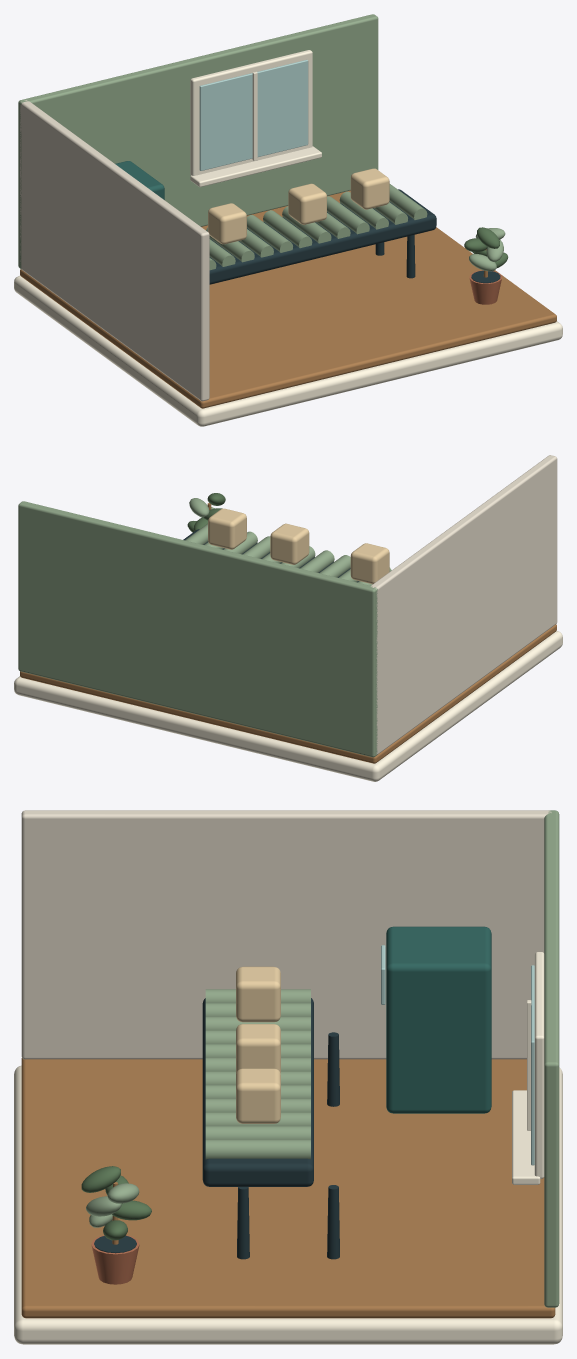
The model's file is business-factory.glb.
3 views of the same model, one above another, from view 1: azimuth 30°, elevation 25°; view 2: azimuth 150°, elevation 25°; view 3: azimuth 270°, elevation 25° (orthographic). The views are drawn at different scales.
Parts seen in each view (by area): view 1: floor, side-wall, back-wall, foundation, window-glass, conveyor-frame, roller (×6), carton (×3), window-frame, window-sill, ceramic-pot, machine (+1 smaller); view 2: back-wall, side-wall, foundation, carton (×3), floor, roller; view 3: side-wall, floor, machine, foundation, roller (×12), back-wall, carton (×3), conveyor-frame, leg (×3), window-frame, window-sill, ceramic-pot (+2 smaller).
Part boxes in pixels (x1=…): floor: x1=20, y1=190, x2=556, y2=408; side-wall: x1=20, y1=100, x2=209, y2=401; back-wall: x1=18, y1=14, x2=378, y2=269; foundation: x1=14, y1=275, x2=562, y2=426; window-glass: x1=199, y1=59, x2=308, y2=170; conveyor-frame: x1=209, y1=189, x2=436, y2=284; roller (×6): x1=247, y1=184, x2=427, y2=252; carton (×3): x1=208, y1=168, x2=389, y2=244; window-frame: x1=190, y1=50, x2=312, y2=175; window-sill: x1=190, y1=146, x2=321, y2=187; ceramic-pot: x1=469, y1=270, x2=502, y2=304; machine: x1=115, y1=161, x2=164, y2=199; back-wall: x1=18, y1=501, x2=377, y2=757; side-wall: x1=371, y1=455, x2=557, y2=754; foundation: x1=14, y1=631, x2=562, y2=781; carton (×3): x1=208, y1=508, x2=389, y2=584; floor: x1=20, y1=624, x2=556, y2=763; roller: x1=300, y1=550, x2=334, y2=572; side-wall: x1=21, y1=810, x2=551, y2=1059; floor: x1=21, y1=1058, x2=555, y2=1318; machine: x1=386, y1=926, x2=491, y2=1113; foundation: x1=14, y1=1065, x2=562, y2=1344; roller (×12): x1=205, y1=989, x2=310, y2=1159; back-wall: x1=544, y1=810, x2=559, y2=1307; carton (×3): x1=236, y1=966, x2=280, y2=1123; conveyor-frame: x1=202, y1=998, x2=313, y2=1186; leg (×3): x1=237, y1=1032, x2=339, y2=1259; window-frame: x1=534, y1=952, x2=544, y2=1178; window-sill: x1=512, y1=1090, x2=540, y2=1184; ceramic-pot: x1=91, y1=1235, x2=139, y2=1284.
Size of the model in its own units: 4.1 by 2.06 by 3.65.
